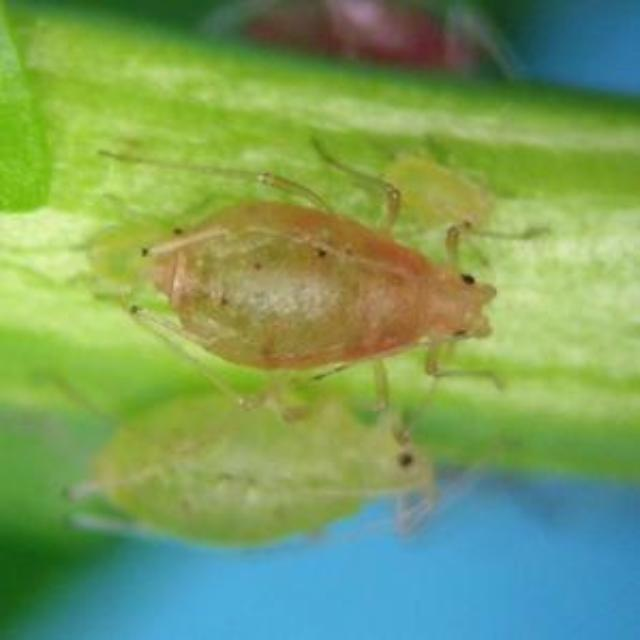Green peach aphid: (76, 134, 530, 423), (42, 382, 502, 596), (349, 109, 529, 248)
